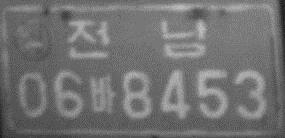0: (17, 70, 47, 119)
3: (234, 69, 267, 121)
4: (158, 69, 191, 120)
5: (195, 69, 229, 118)
6: (51, 68, 83, 122)
8: (120, 68, 153, 121)
바: (87, 74, 117, 116)
영: (13, 18, 54, 62)
전남_D: (65, 18, 208, 60)
